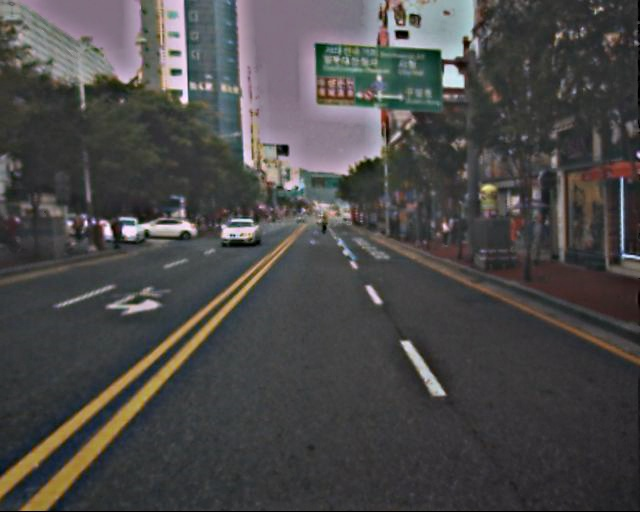person: (530, 214, 550, 269), (392, 222, 413, 247), (70, 208, 84, 243), (111, 218, 124, 250), (441, 217, 450, 240), (321, 217, 330, 240)
